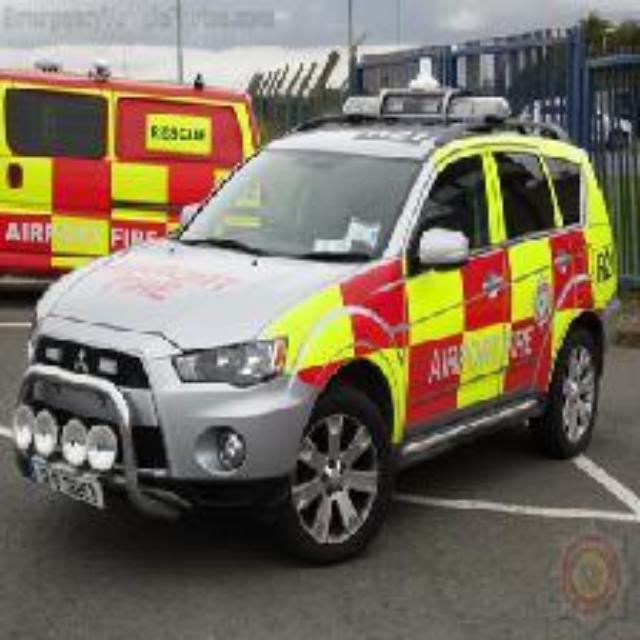emergency: (23, 94, 623, 534)
